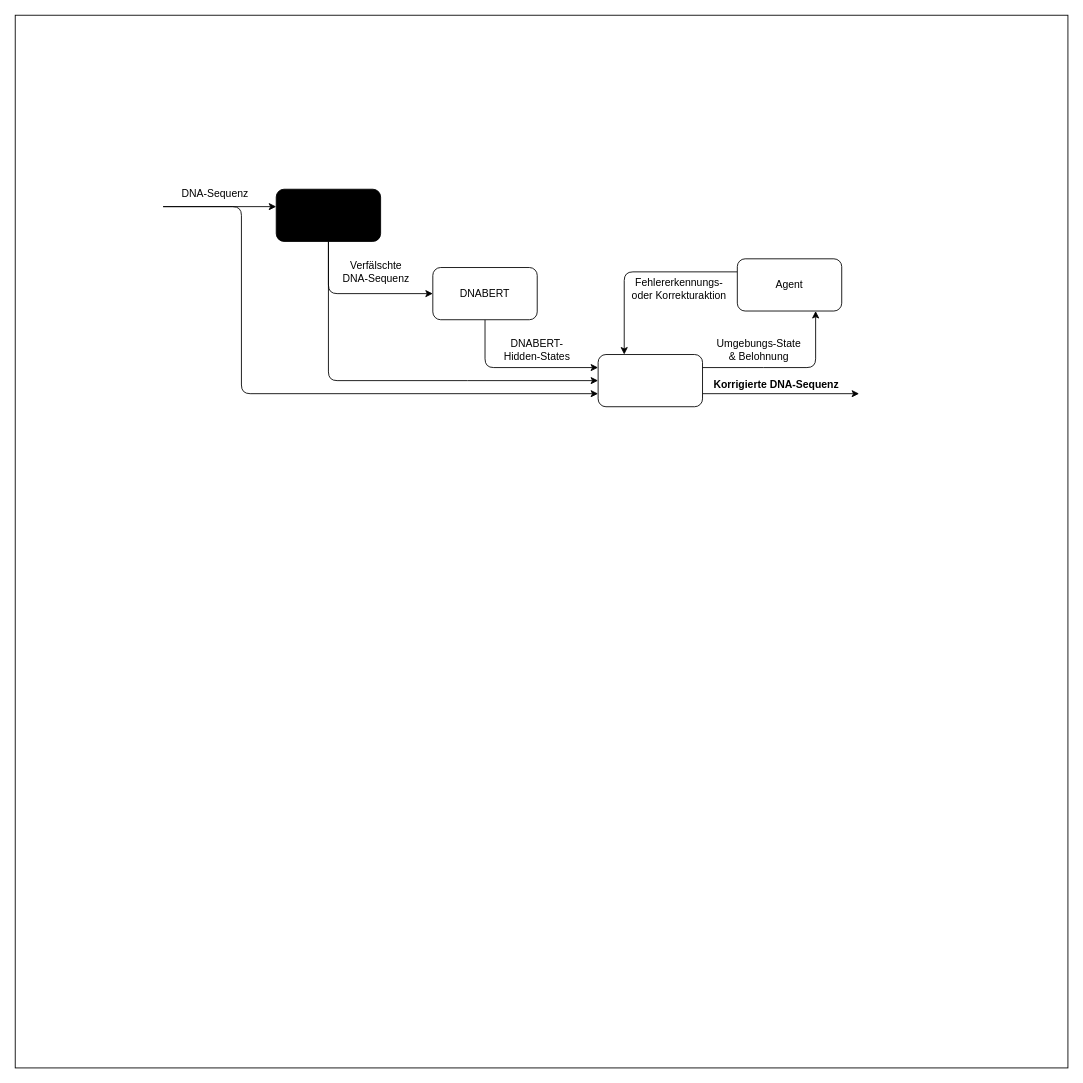
This 1083x1083 diagram has some shape labels left out. The shapes that lost their labels are listed below. From the top down, each one's box as (x1, y1, x2, y2) in pixels, then its label:
(275, 188, 381, 241): Erzeugung zufälliger Basenfehler
(597, 354, 703, 407): DNA-Umgebung
